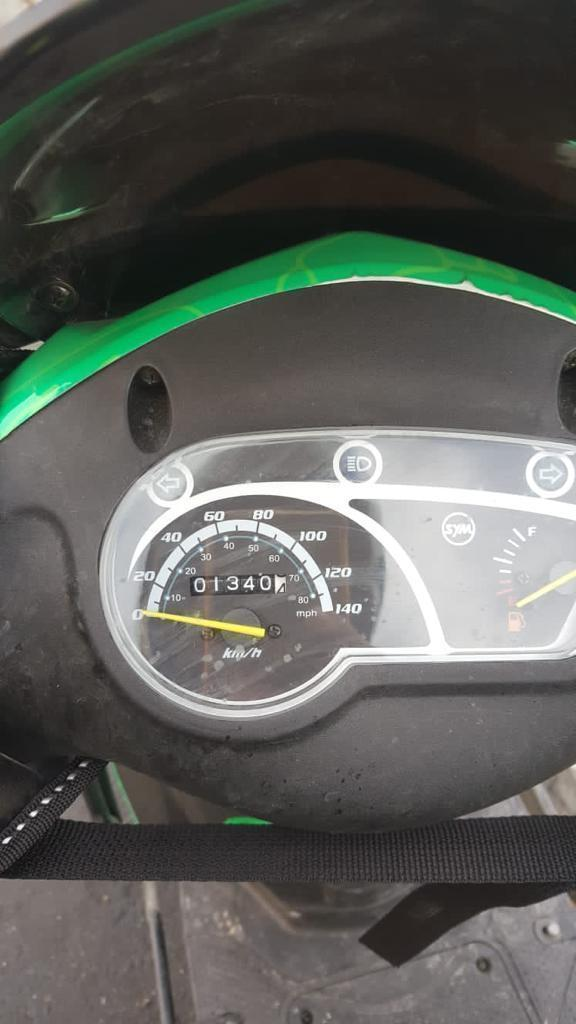0: (193, 576, 206, 593), (259, 575, 272, 591)
1: (212, 575, 220, 592)
3: (225, 575, 239, 591)
4: (242, 575, 256, 590), (275, 581, 286, 594)
odometer: (186, 571, 289, 598)
